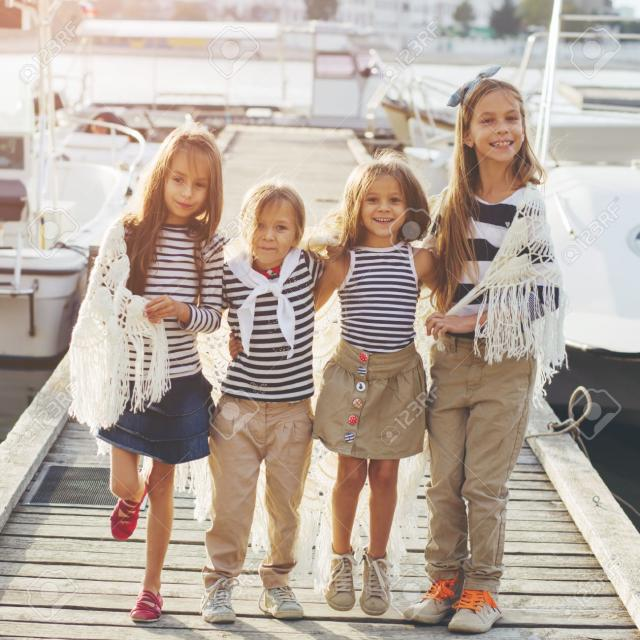body: (399, 61, 572, 636), (61, 120, 228, 625), (312, 150, 442, 618), (200, 180, 329, 626), (447, 0, 530, 43)
